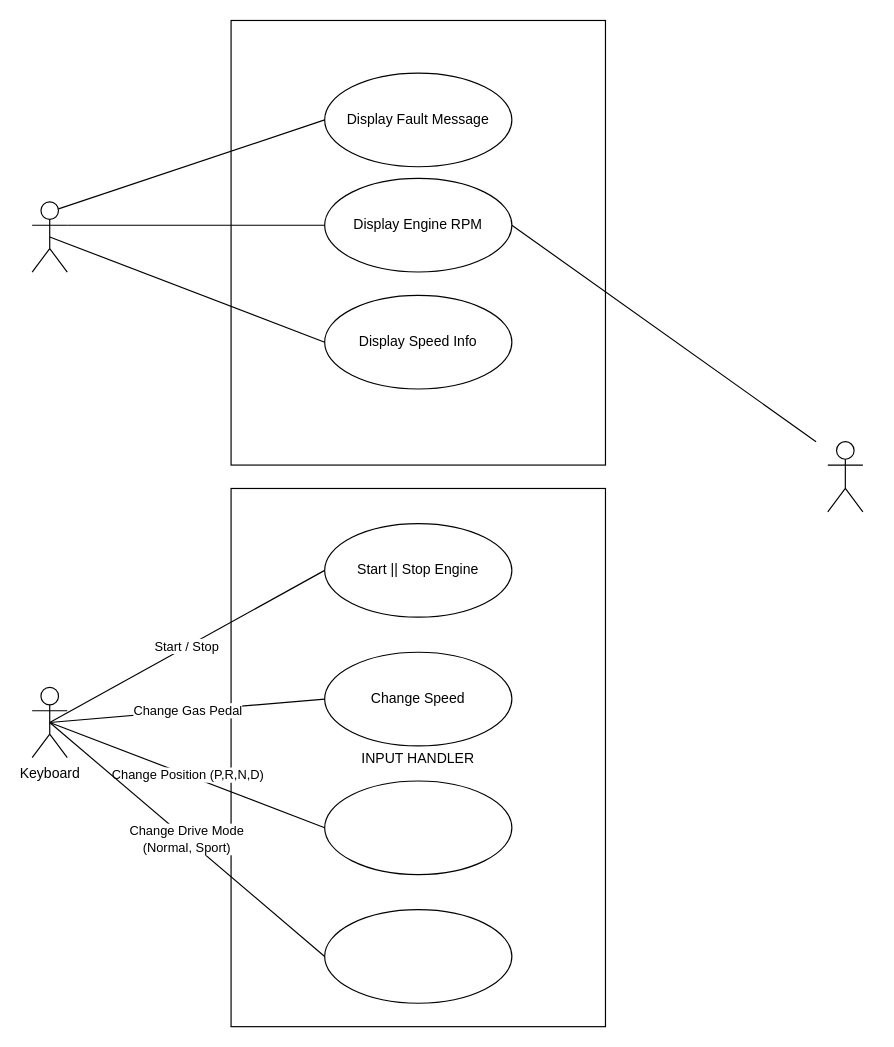
The diagram is 894 pixels wide and 1047 high, and some of its shapes have lost their labels. Here are the shapes that lost their labels. From the top down, the centre of each, then its label:
At point 49,236: "CANbus".
At point 845,476: "Emulator".
At point 418,827: "Change Position".
At point 418,956: "Change Drive Mode (ICE RPM curve, TR threshold)".
